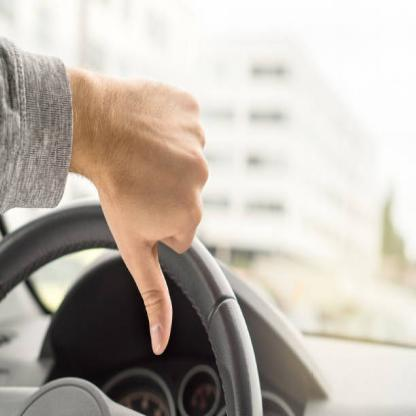thumb_down: (100, 66, 210, 356)
